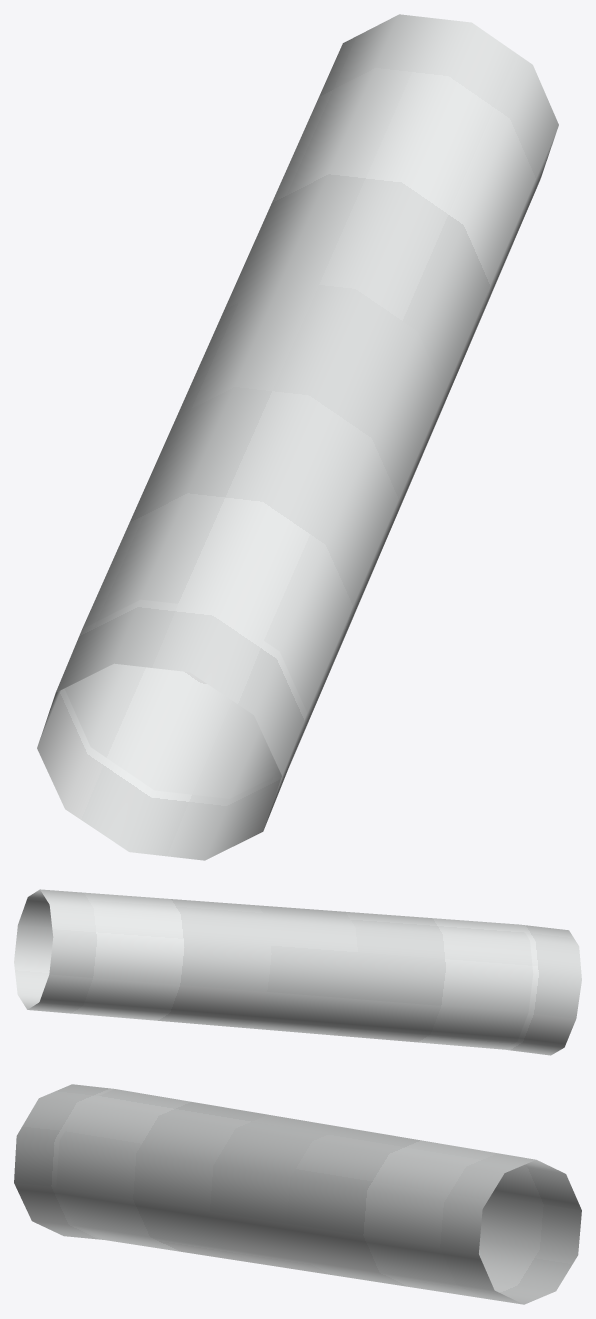
Rendered from nycsignalarm_diagonal8_c3.obj.
The picture shows the model from 3 angles, top to bottom: view 1: azimuth 30°, elevation 25°; view 2: azimuth 150°, elevation 25°; view 3: azimuth 270°, elevation 25°; orthographic projection. The views are drawn at different scales.
Visible parts, largest first — view 1: nycsignalarm_diagonal8_c3; view 2: nycsignalarm_diagonal8_c3; view 3: nycsignalarm_diagonal8_c3.
Part boxes in pixels (x1,y1,x2,y2): nycsignalarm_diagonal8_c3: (37, 14, 558, 860); nycsignalarm_diagonal8_c3: (14, 889, 581, 1055); nycsignalarm_diagonal8_c3: (14, 1084, 581, 1304).
Size of the model in its own units: 1.23 by 0.5934 by 1.23.
